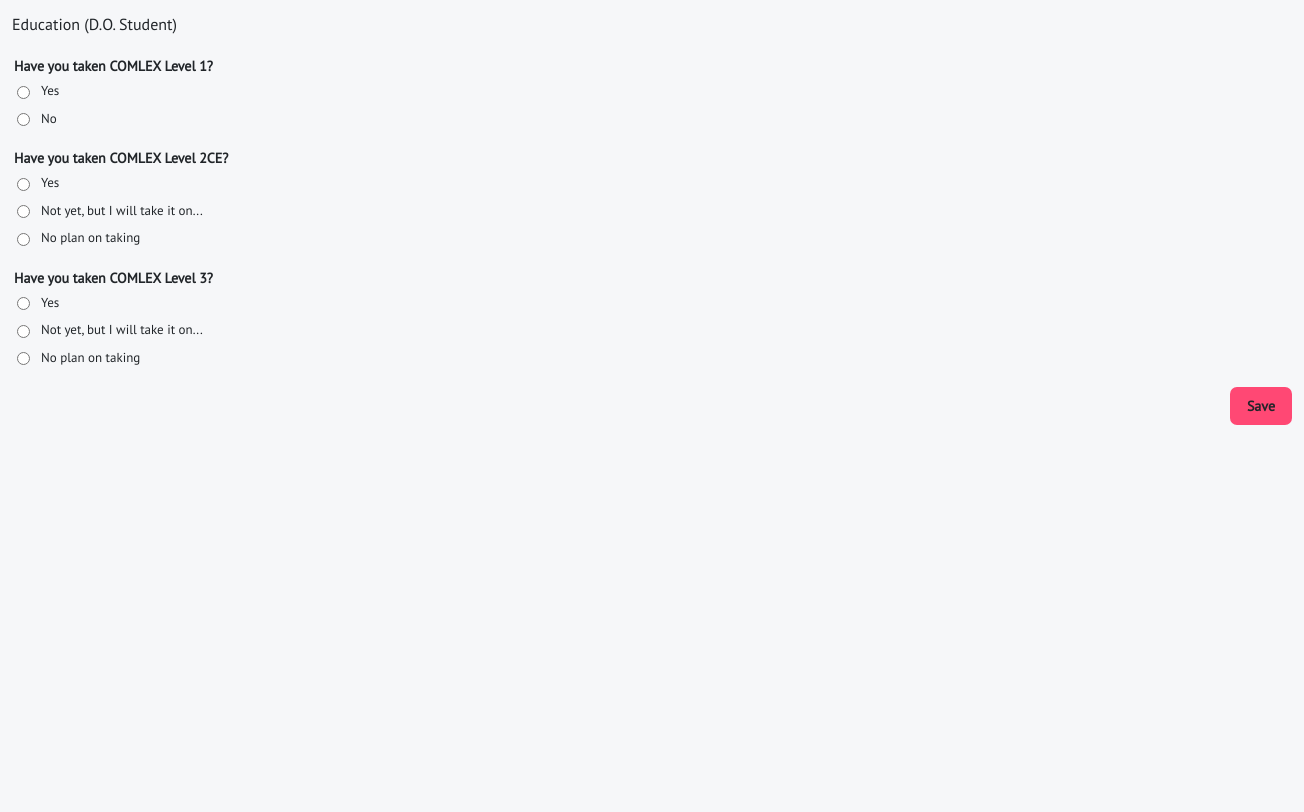
Test: StudentEducationTab › blocks the COMLEX save when Level 1 is Yes but pass/fail is unanswered
Click the radio button labelled "Yes" below "Have you taken COMLEX Level 1?" at (24, 92), box [17, 86, 30, 99]
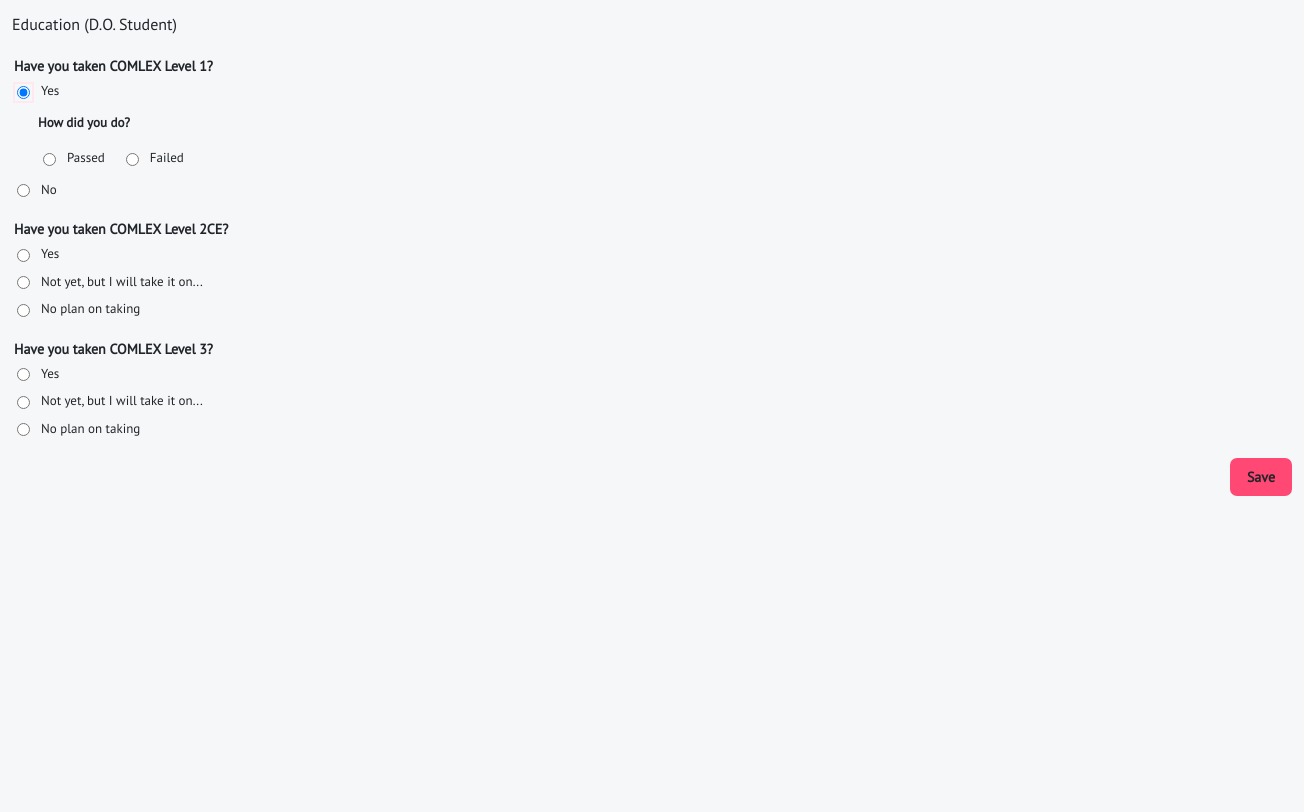
Click the button "Save" at (1261, 477), box [1230, 458, 1292, 496]
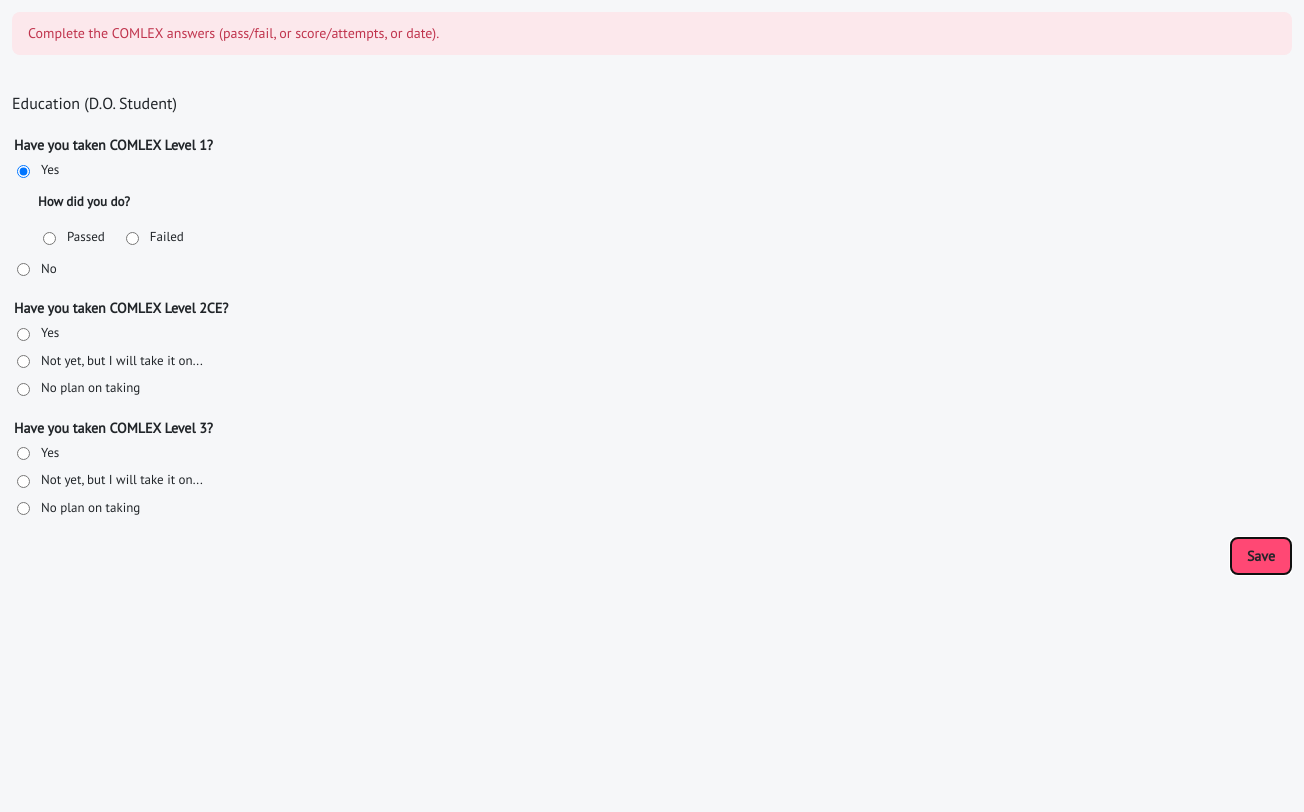
Expected: the text "Complete the COMLEX answers (pass/fail, or score/attempts, or date)." is shown, [12, 12, 1292, 55]
